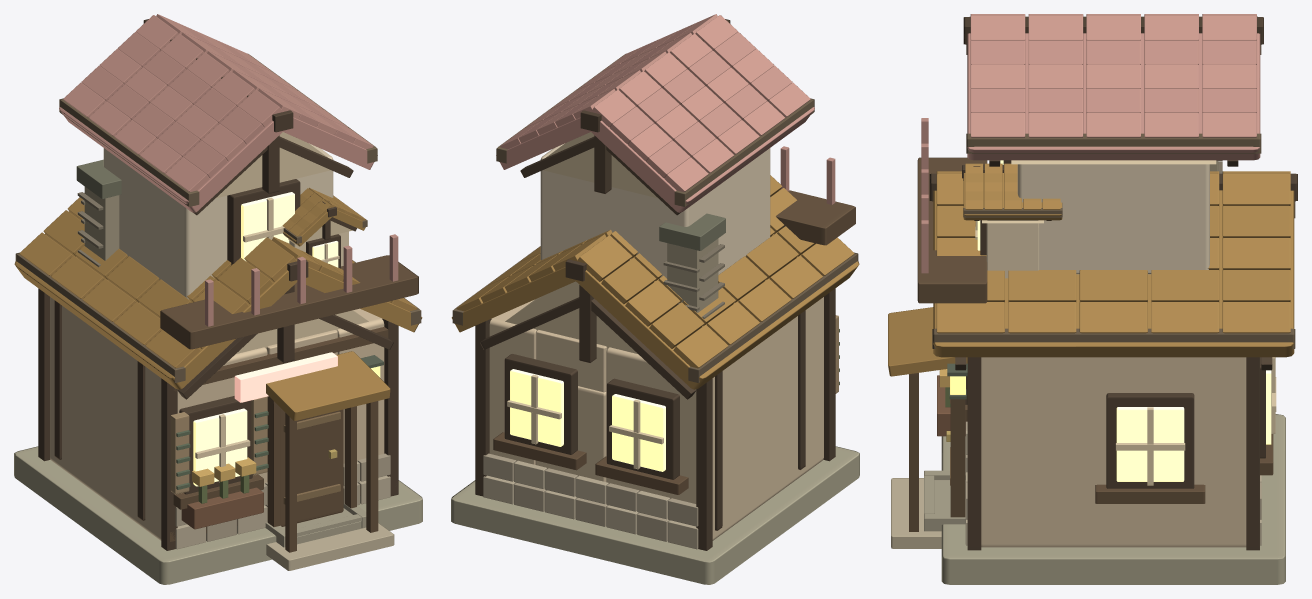
Rendered from workshop-2-3.glb.
3 renders of one model, left to right at view 1: azimuth 30°, elevation 25°; view 2: azimuth 150°, elevation 25°; view 3: azimuth 270°, elevation 25°, orthographic. The views are drawn at different scales.
Parts seen in each view (by area): view 1: workshop-3-2, door-hinge; view 2: workshop-3-2; view 3: workshop-3-2.
Boxes of the visible parts, <box> form: workshop-3-2: <box>14,14,422,584</box>; door-hinge: <box>280,407,343,526</box>; workshop-3-2: <box>451,14,859,584</box>; workshop-3-2: <box>888,14,1297,584</box>.
Size of the model in its own units: 1.88 by 3 by 2.24.
